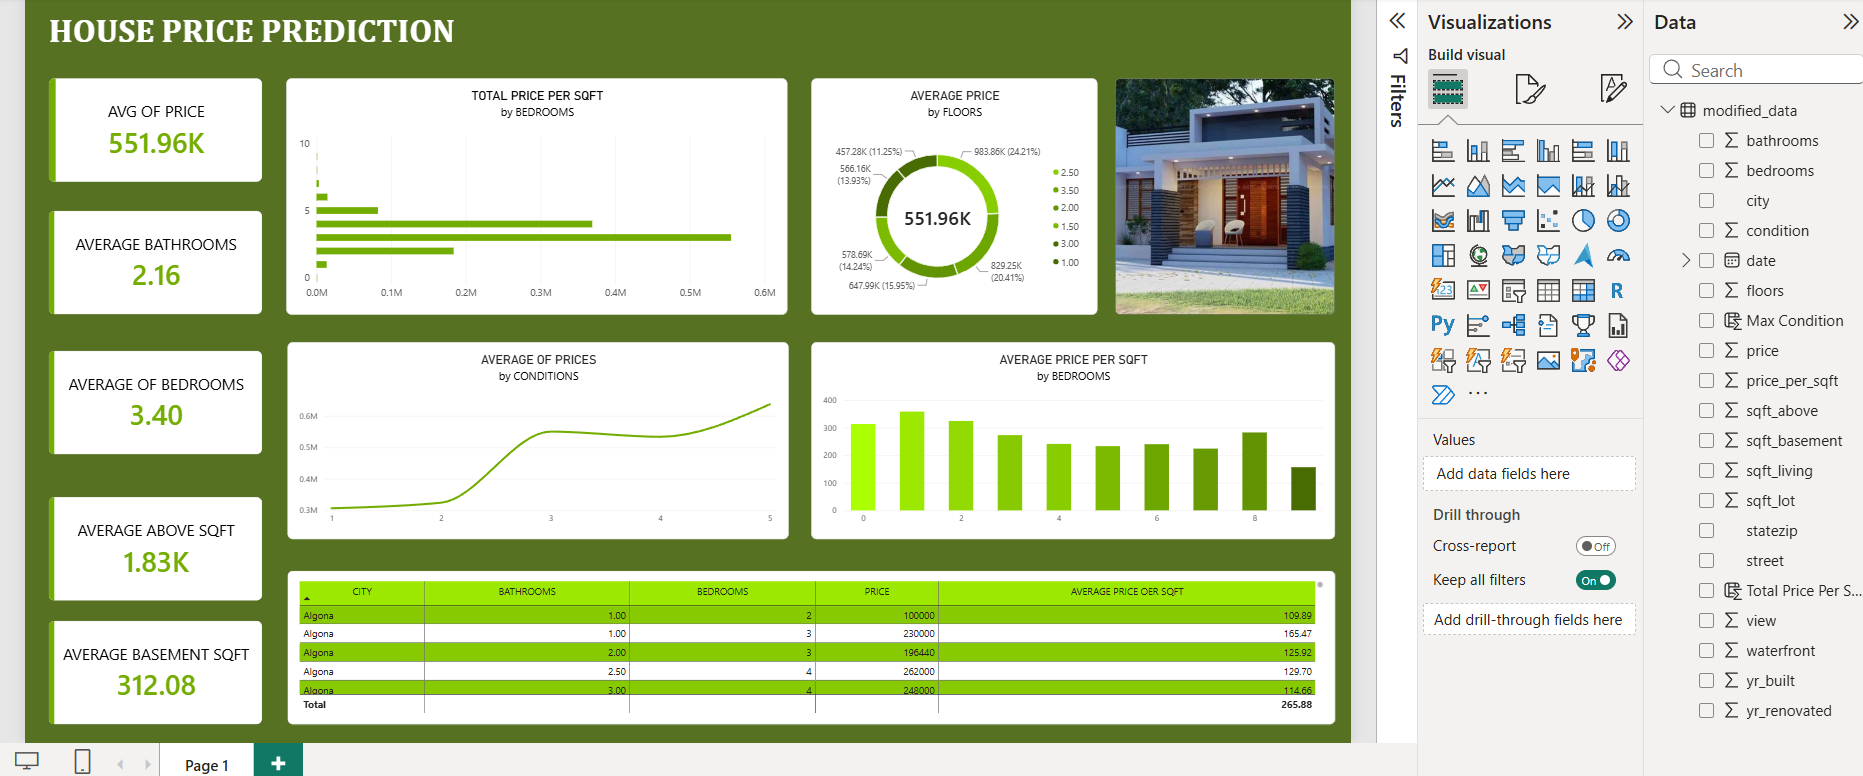

Layout of this report page (visuals, bound fields, positions):
{"tool":"powerbi","page":{"name":"Page 1","canvas":[1920,1080],"ordinal":0},"visuals":[{"type":"textbox","box":[35,20.6,1885.4,72],"z":0},{"type":"cardVisual","fields":{"Data":["Avg(modified_data.price)"]},"box":[34.4,117.6,309.5,150.2],"z":1},{"type":"cardVisual","fields":{"Data":["Avg(modified_data.bedrooms)"]},"box":[34.4,512.1,309.5,150.2],"z":2},{"type":"cardVisual","fields":{"Data":["Avg(modified_data.sqft_basement)"]},"box":[34.4,903,309.5,150.2],"z":4},{"type":"cardVisual","fields":{"Data":["Avg(modified_data.sqft_above)"]},"box":[34.4,723.9,309.5,150.2],"z":5},{"type":"cardVisual","fields":{"Data":["Avg(modified_data.bathrooms)"]},"box":[34.4,309.5,309.5,150.2],"z":6},{"type":"image","box":[1578,117.6,318.5,342],"z":7},{"type":"barChart","fields":{"Category":["modified_data.bedrooms"],"Y":["Sum(modified_data.price_per_sqft)"]},"box":[378.2,117.6,725.7,342],"z":8},{"type":"donutChart","fields":{"Category":["modified_data.floors"],"Y":["Avg(modified_data.price)"]},"box":[1138.3,117.6,414.4,342],"z":9},{"type":"columnChart","fields":{"Category":["modified_data.bedrooms"],"Y":["Avg(modified_data.price_per_sqft)"]},"box":[1138.3,499.5,758.2,285.9],"z":10},{"type":"lineChart","fields":{"Category":["modified_data.condition"],"Y":["Avg(modified_data.price)"]},"box":[380,499.5,725.7,285.9],"z":11},{"type":"tableEx","fields":{"Values":["modified_data.city","modified_data.bathrooms","modified_data.bedrooms","modified_data.price","Avg(modified_data.price_per_sqft)"]},"box":[380,830.6,1516.5,222.6],"z":12}]}

Visuals, with their boxes in screenshot pixels (x1, y1, x2, y2):
textbox: pyautogui.locateOnScreen(48, 14, 1337, 63)
cardVisual - Avg(modified_data.price): pyautogui.locateOnScreen(48, 80, 259, 183)
cardVisual - Avg(modified_data.bedrooms): pyautogui.locateOnScreen(48, 350, 259, 453)
cardVisual - Avg(modified_data.sqft_basement): pyautogui.locateOnScreen(48, 617, 259, 720)
cardVisual - Avg(modified_data.sqft_above): pyautogui.locateOnScreen(48, 495, 259, 598)
cardVisual - Avg(modified_data.bathrooms): pyautogui.locateOnScreen(48, 212, 259, 314)
image: pyautogui.locateOnScreen(1103, 80, 1321, 314)
barChart - modified_data.bedrooms x Sum(modified_data.price_per_sqft): pyautogui.locateOnScreen(283, 80, 779, 314)
donutChart - modified_data.floors x Avg(modified_data.price): pyautogui.locateOnScreen(803, 80, 1086, 314)
columnChart - modified_data.bedrooms x Avg(modified_data.price_per_sqft): pyautogui.locateOnScreen(803, 342, 1321, 537)
lineChart - modified_data.condition x Avg(modified_data.price): pyautogui.locateOnScreen(284, 342, 780, 537)
tableEx - modified_data.city x modified_data.bathrooms: pyautogui.locateOnScreen(284, 568, 1321, 720)
